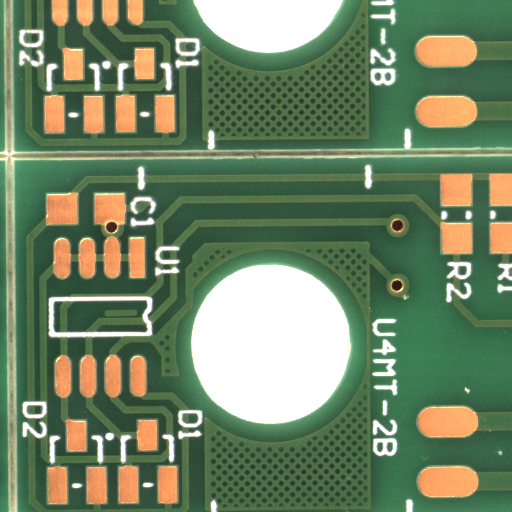Spurious_copper: (118, 312, 157, 321)
